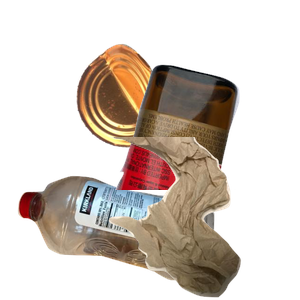glass: (113, 62, 300, 242)
metal: (74, 41, 229, 181)
plastic: (15, 173, 222, 300)
trash: (103, 137, 300, 300)
